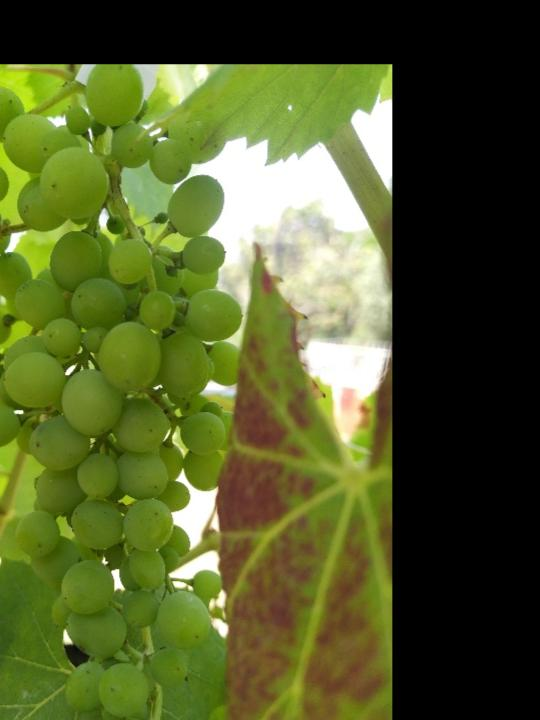grape: (0, 68, 241, 720)
